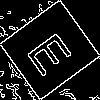E: (25, 24, 82, 79)
